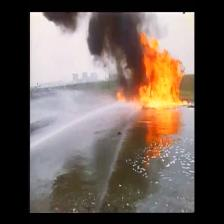fire: (141, 38, 188, 106)
smoke: (88, 15, 140, 62), (45, 13, 79, 35)
